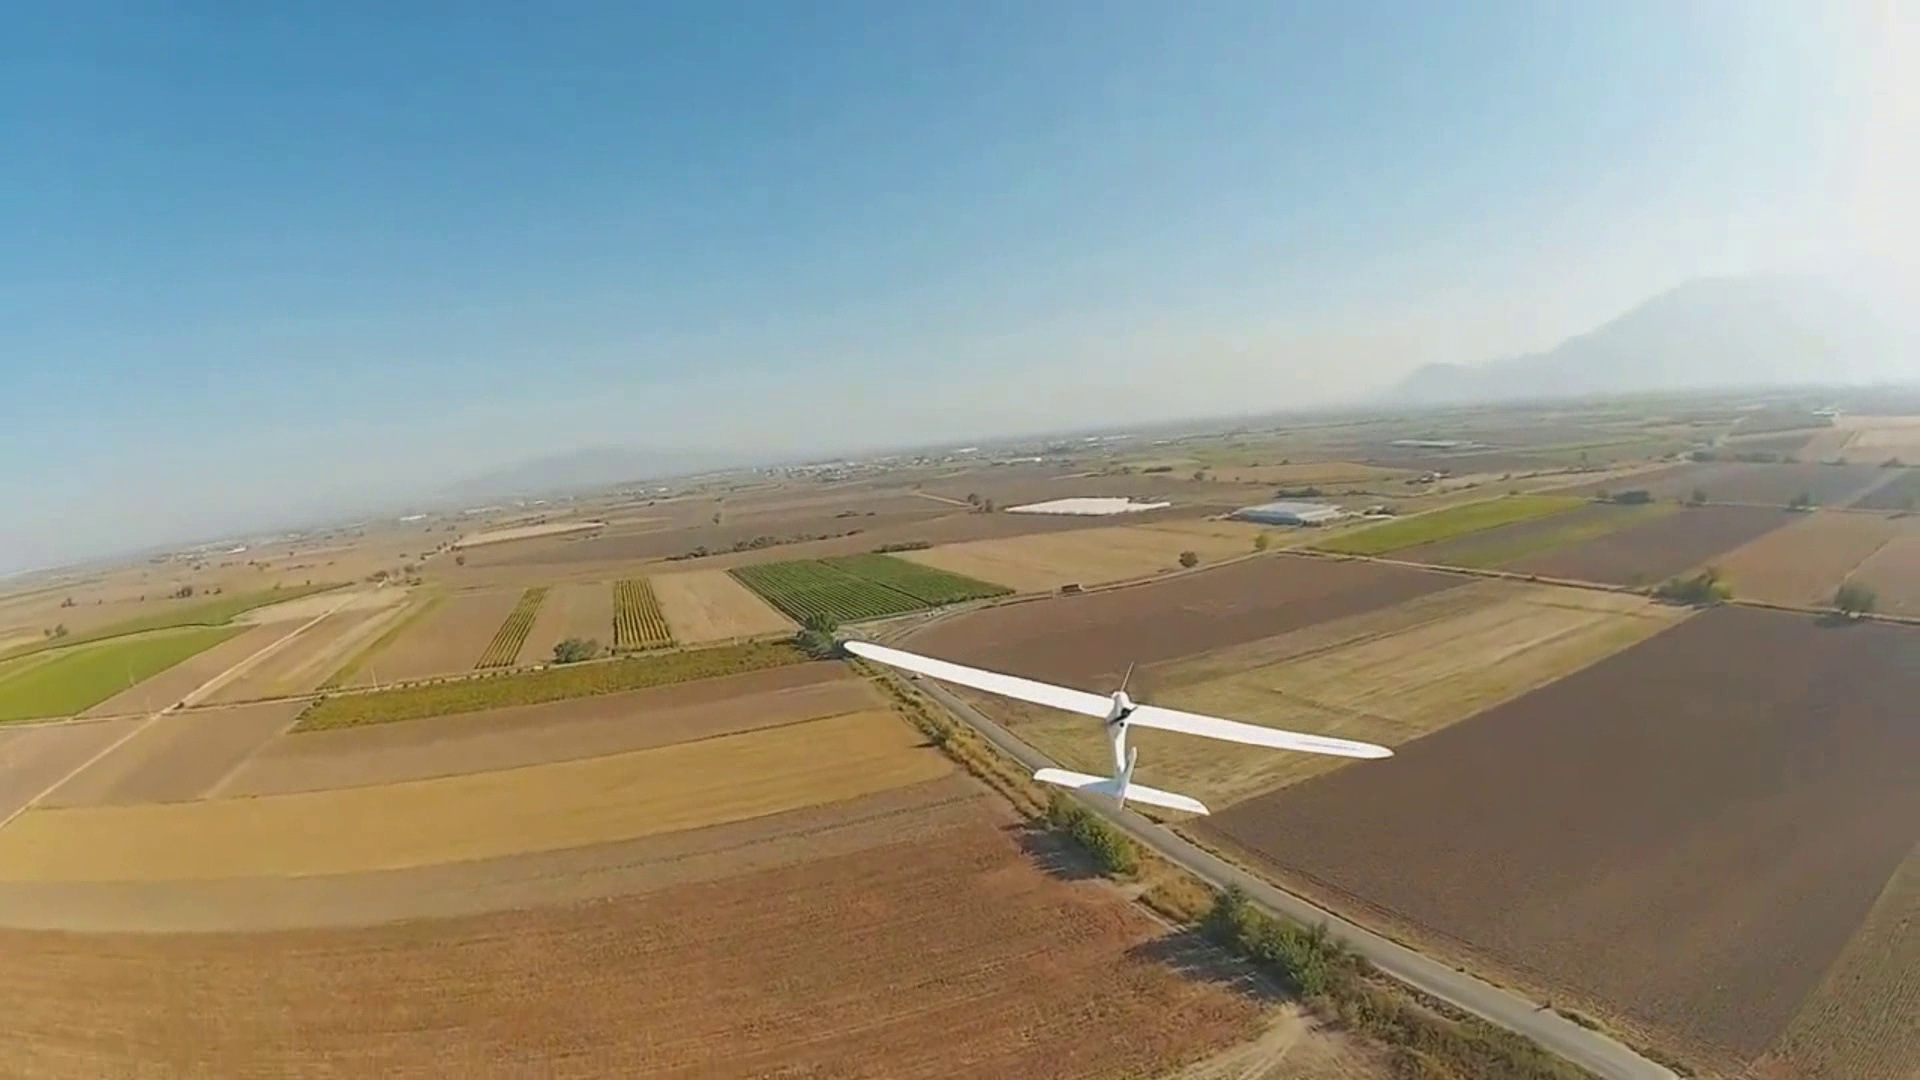airplane: (841, 433, 1918, 1068)
